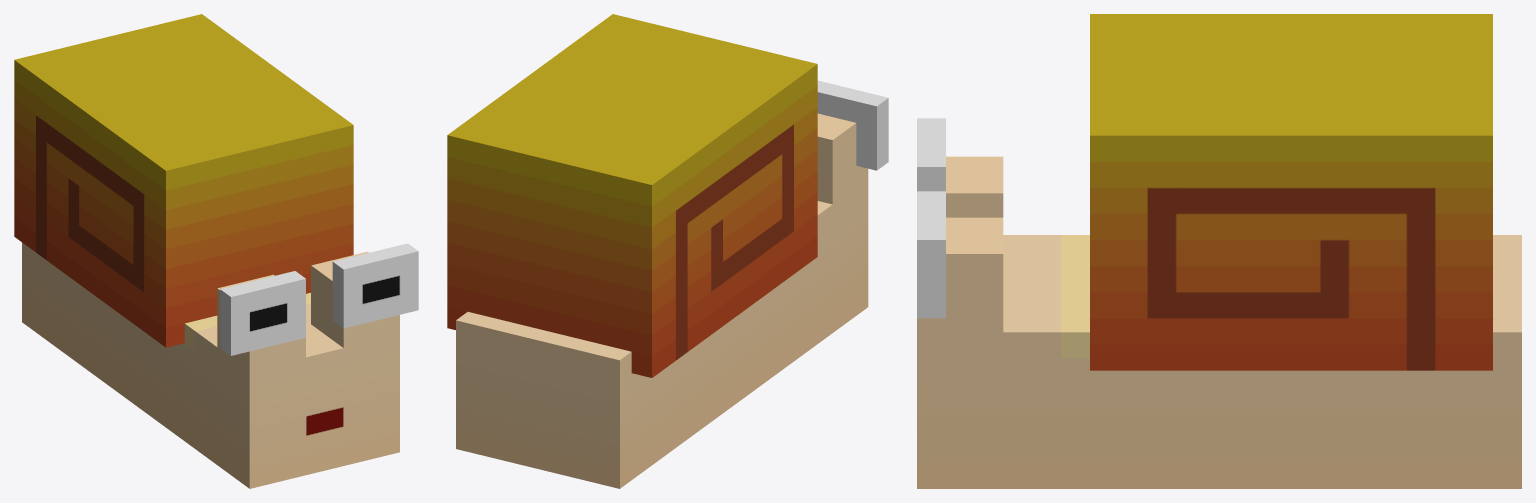
3 views of the same model, side by side, from view 1: azimuth 30°, elevation 25°; view 2: azimuth 150°, elevation 25°; view 3: azimuth 270°, elevation 25° (orthographic). The views are drawn at different scales.
Parts seen in each view (by area): view 1: cr022; view 2: cr022; view 3: cr022.
Boxes of the visible parts, x1,y1,x2,y2 form: cr022: (14, 14, 418, 488); cr022: (447, 14, 888, 488); cr022: (917, 14, 1521, 488).
Bounding box in the file's own units: 10 × 14 × 21.
